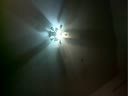window: (63, 73, 128, 96)
